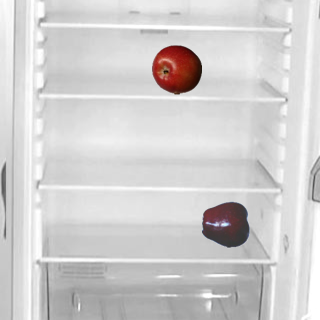Apple Braeburn: (151, 44, 201, 94)
Apple Red Delicious: (201, 199, 251, 249)
